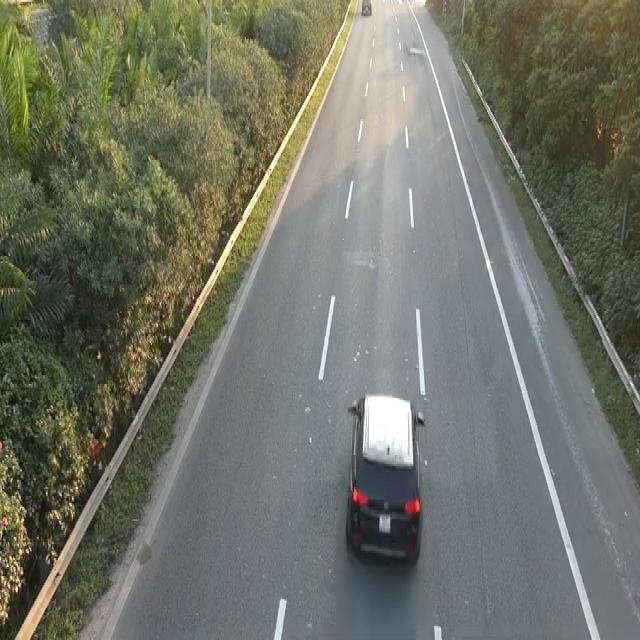car: (343, 388, 427, 567)
